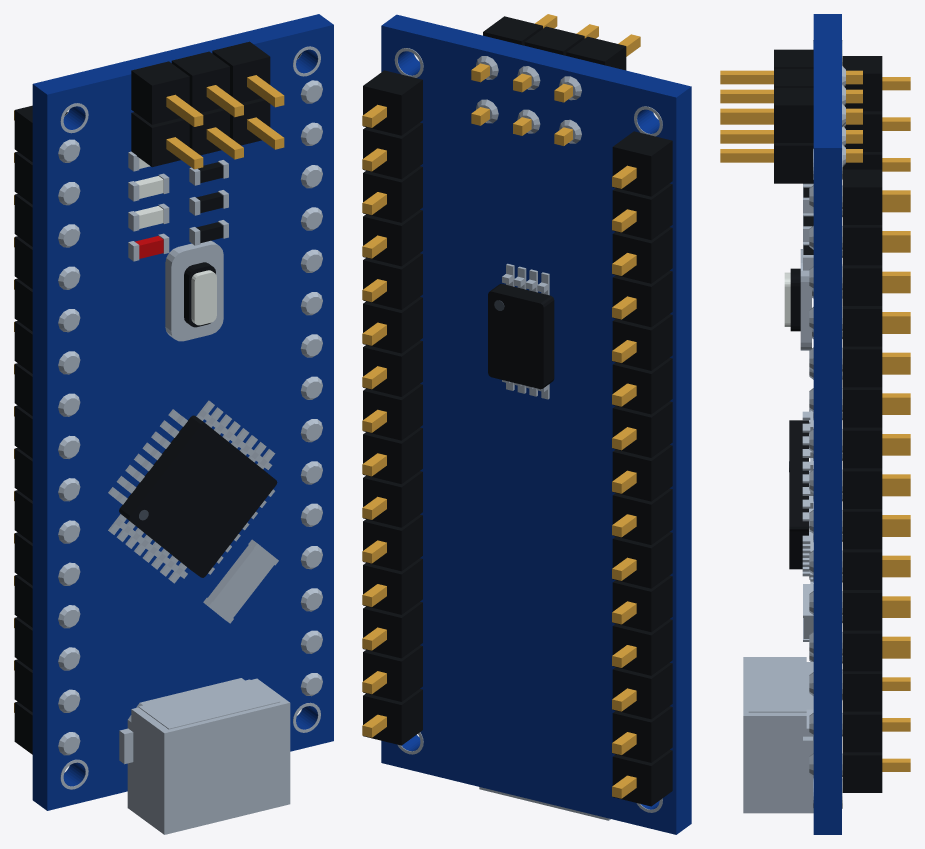
The model's file is arduino_nano_microcontroller.obj.
3 views of the same model, side by side, from view 1: azimuth 30°, elevation 25°; view 2: azimuth 150°, elevation 25°; view 3: azimuth 270°, elevation 25° (orthographic). The views are drawn at different scales.
Visible parts, largest first — view 1: arduino_nano_microcontroller; view 2: arduino_nano_microcontroller; view 3: arduino_nano_microcontroller.
Part boxes in pixels (box(x1,y1,x2,y2)): arduino_nano_microcontroller: box(14, 14, 333, 834); arduino_nano_microcontroller: box(362, 14, 691, 834); arduino_nano_microcontroller: box(720, 14, 910, 834).
Size of the model in its own units: 0.8141 by 2 by 0.4885.
